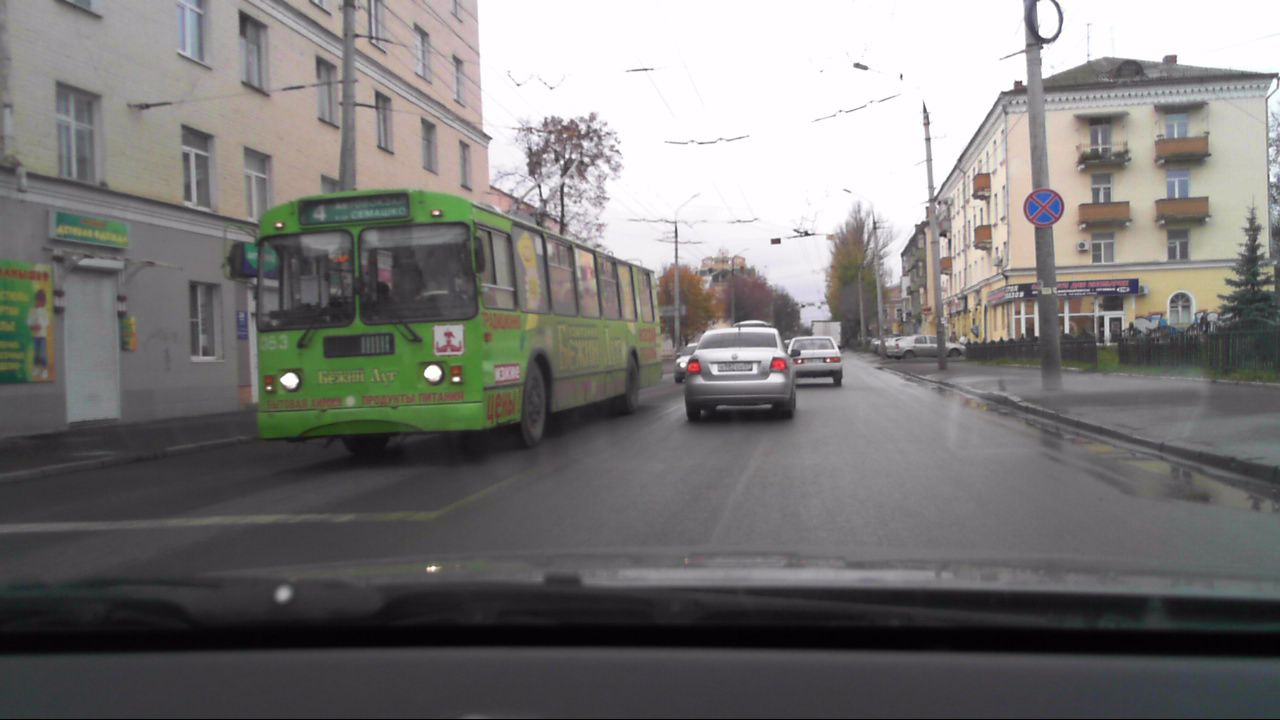No Parking: (1019, 186, 1070, 230)
